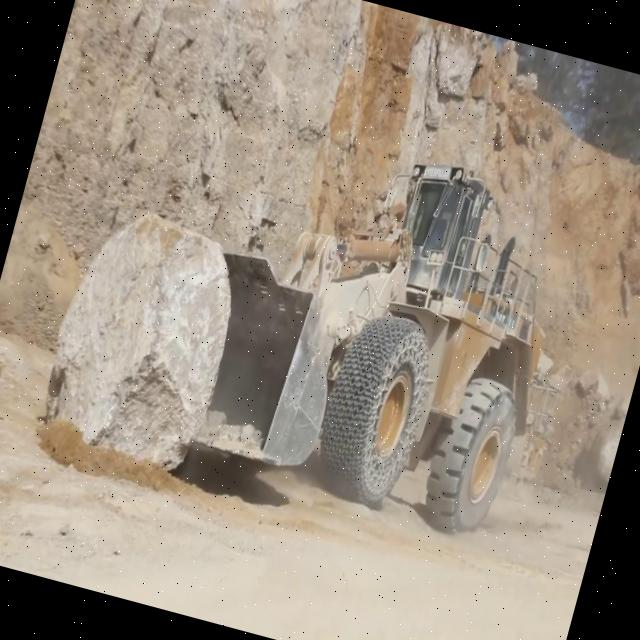Loader: (169, 112, 610, 548)
